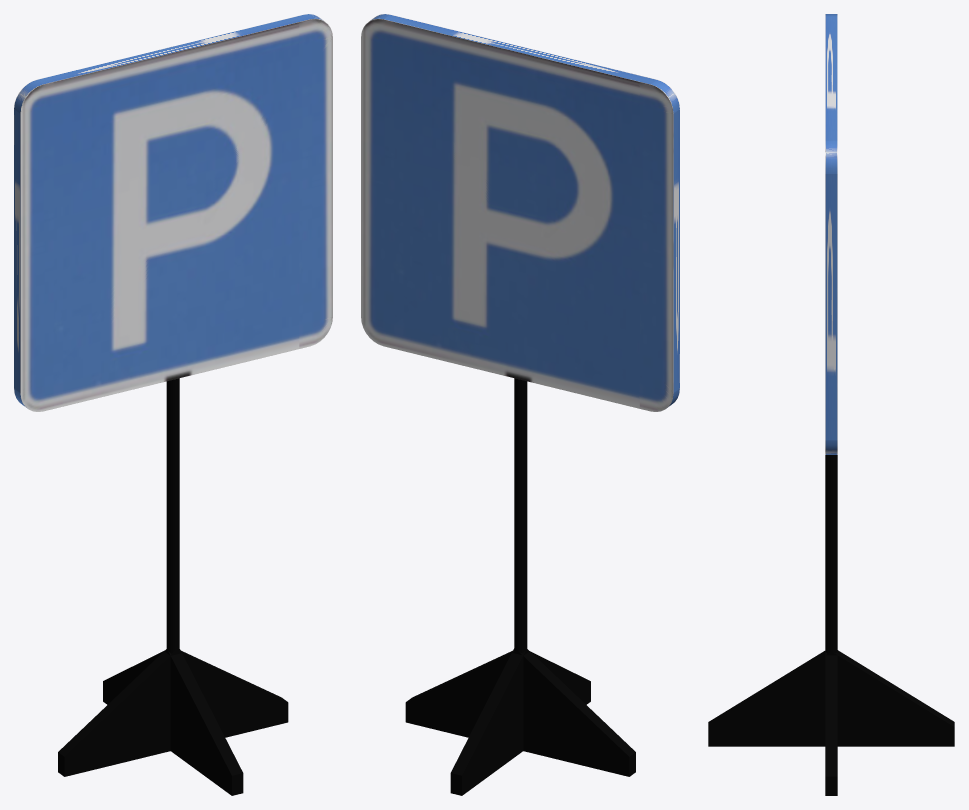
Rendered from ped.dae.
The picture shows the model from 3 angles, left to right: view 1: azimuth 30°, elevation 25°; view 2: azimuth 150°, elevation 25°; view 3: azimuth 270°, elevation 25°; orthographic projection. The views are drawn at different scales.
Parts seen in each view (by area): view 1: Cylinder001; view 2: Cylinder001; view 3: Cylinder001.
Part boxes in pixels (bbox=[...]): Cylinder001: bbox=[14, 14, 332, 795]; Cylinder001: bbox=[361, 14, 679, 795]; Cylinder001: bbox=[708, 14, 954, 795].
Bounding box in the file's own units: 0.055 × 0.0394 × 0.1174.
2 materials, 1 textured.
